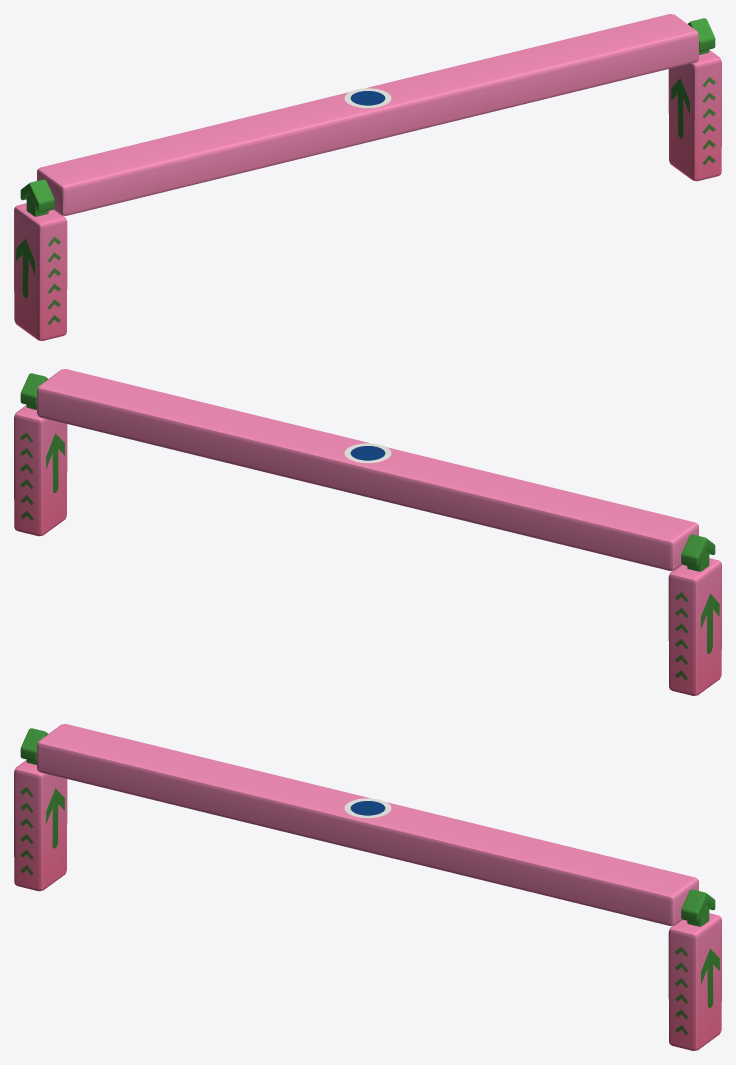
3 renders of one model, top to bottom at view 1: azimuth 30°, elevation 25°; view 2: azimuth 150°, elevation 25°; view 3: azimuth 330°, elevation 25°, orthographic.
Parts seen in each view (by area): view 1: shape3_8, top_cycle; view 2: shape3_8, top_cycle; view 3: shape3_8, top_cycle.
Boxes of the visible parts, x1,y1,x2,y2 form: shape3_8: [14, 14, 721, 340]; top_cycle: [344, 88, 391, 108]; shape3_8: [14, 369, 721, 695]; top_cycle: [344, 443, 391, 463]; shape3_8: [14, 724, 721, 1050]; top_cycle: [344, 798, 391, 818].
Size of the model in its own units: 70.96 by 15.08 by 5.
